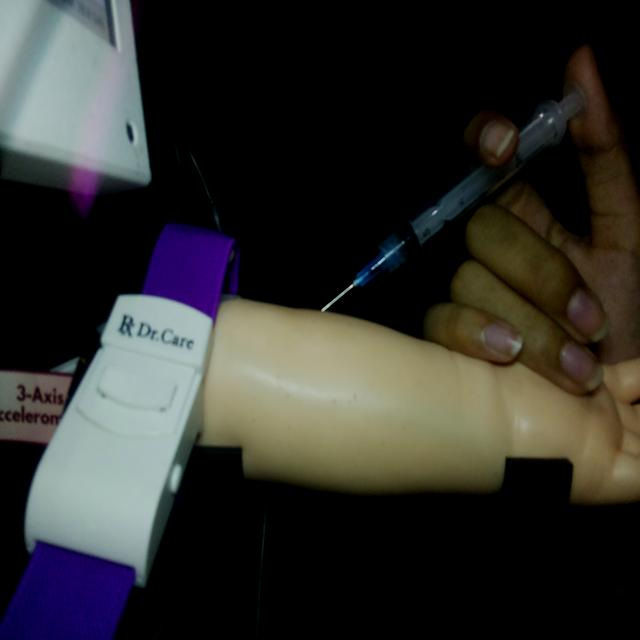28 degrees: (318, 78, 588, 314)
